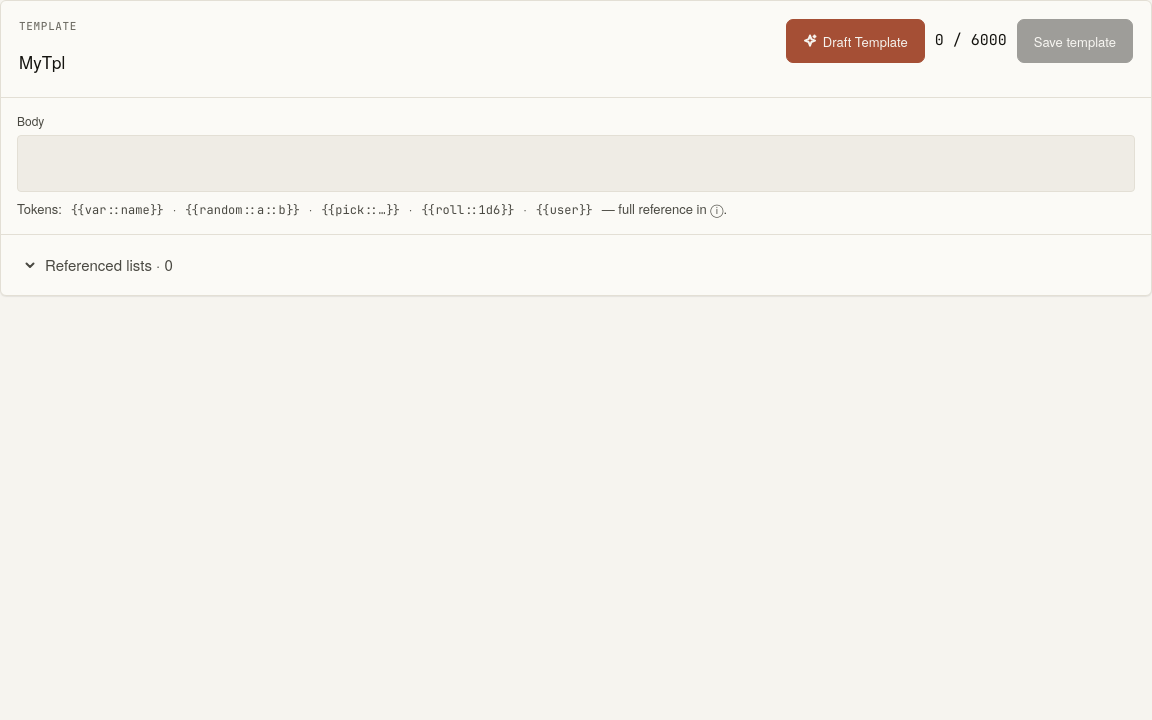
Test: TemplateEditor — AI Draft Template integration › clicking AI on empty body opens the seed dialog
Click the button "Draft Template" at point(855, 41), box [786, 19, 925, 63]
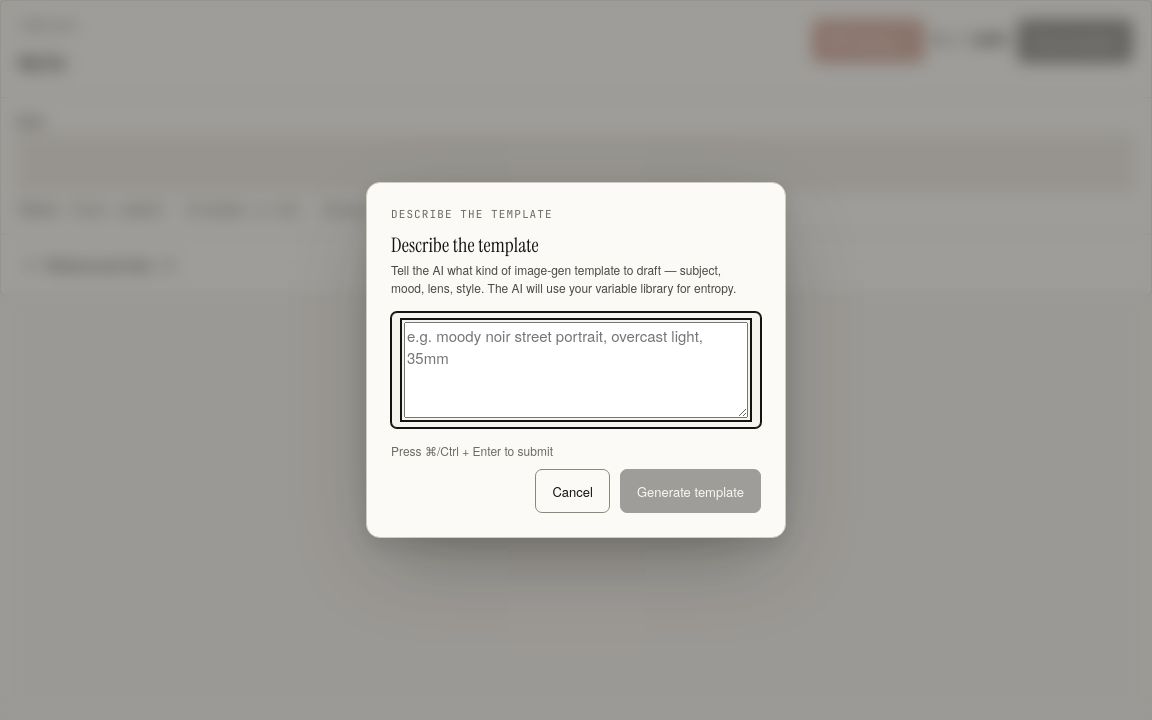
Check: the heading "Describe the template" is shown, box [391, 232, 539, 258]
